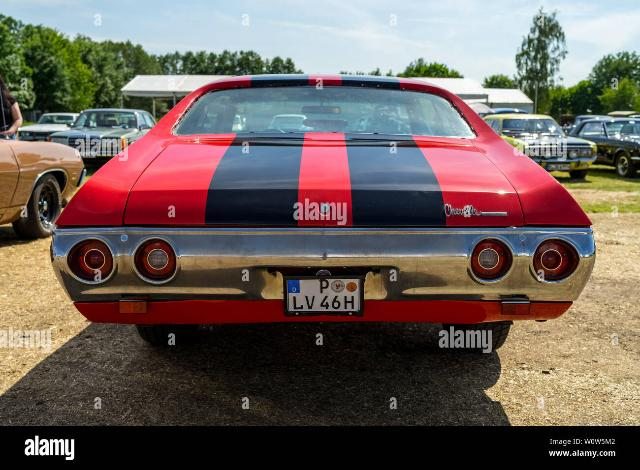chevelle-1972: (50, 75, 595, 351)
